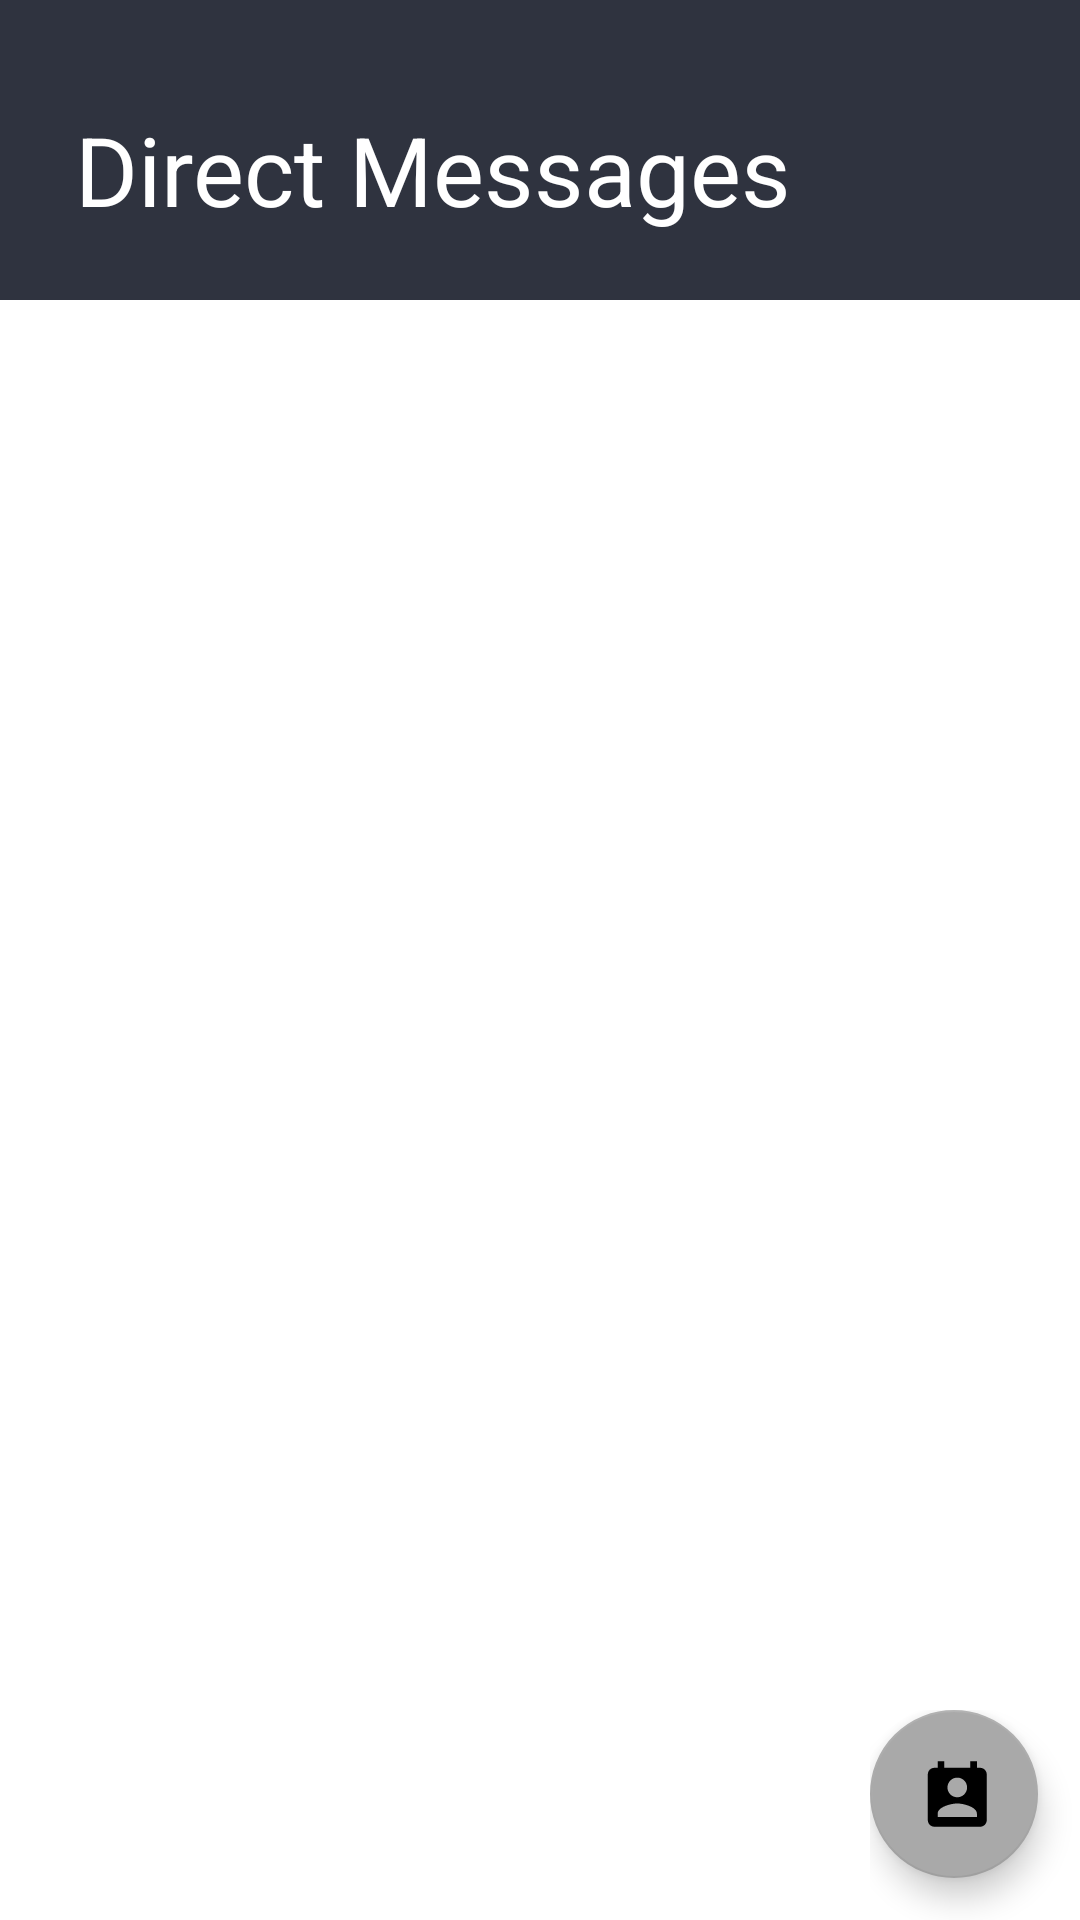

Screen size 1080 x 1920. Icon name, then its center in pixels as [x,y]:
perm contact calendar: [954,1794]
